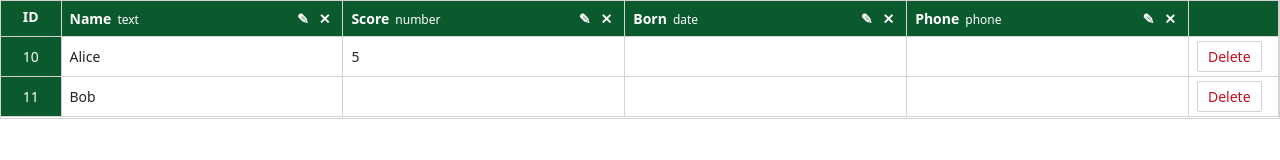
Test: Cell inline editing › Escape cancels without saving
Click the text "Alice".
click(85, 56)  # box [70,47,100,66]
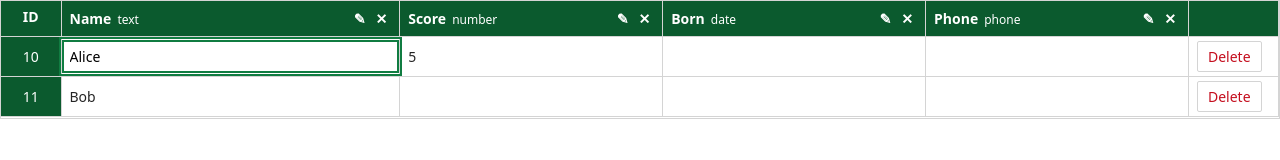
Type "xyz" into the field showing "Alice".
click(230, 56); type("xyz")  # box [62,40,399,73]
Then press Escape
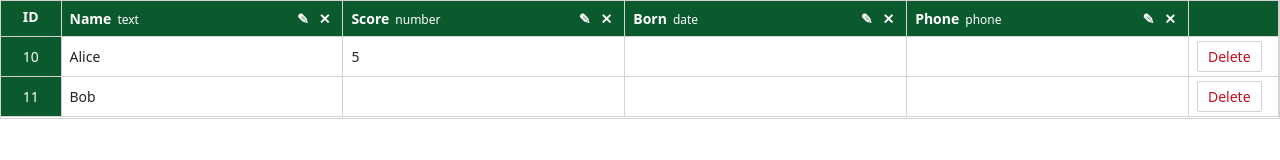
Now the text "Alice" is shown, box [70,47,100,66]
